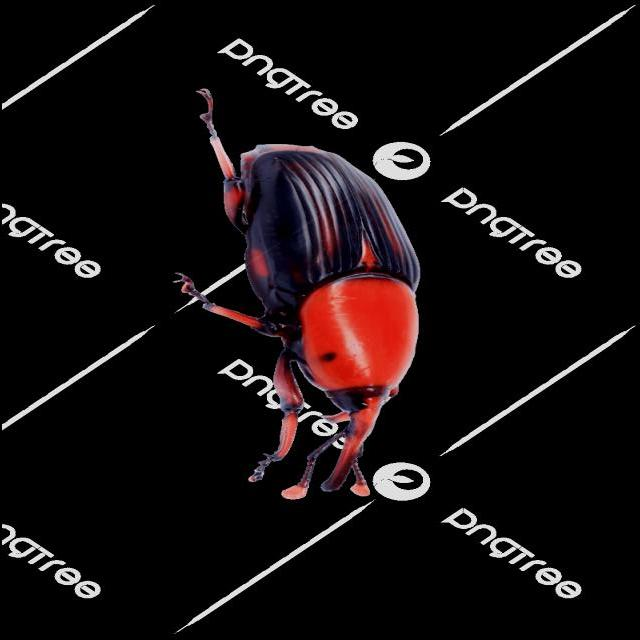Red-palm-weevil: (215, 137, 429, 501)
